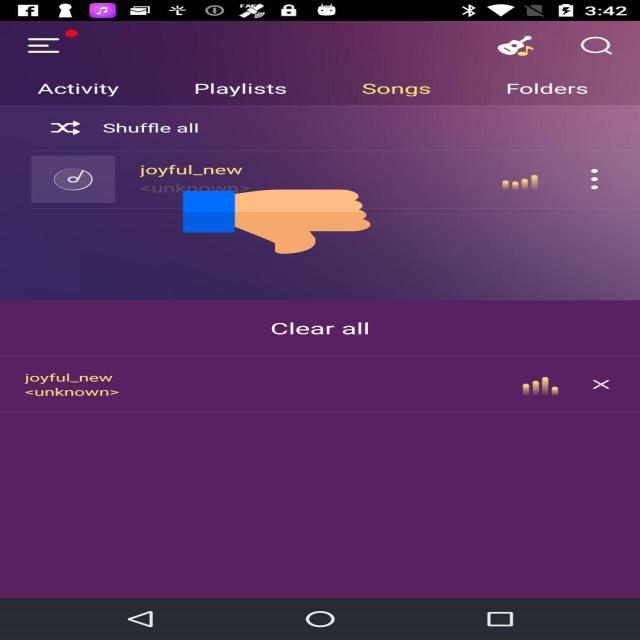obstruction: (183, 188, 370, 255)
